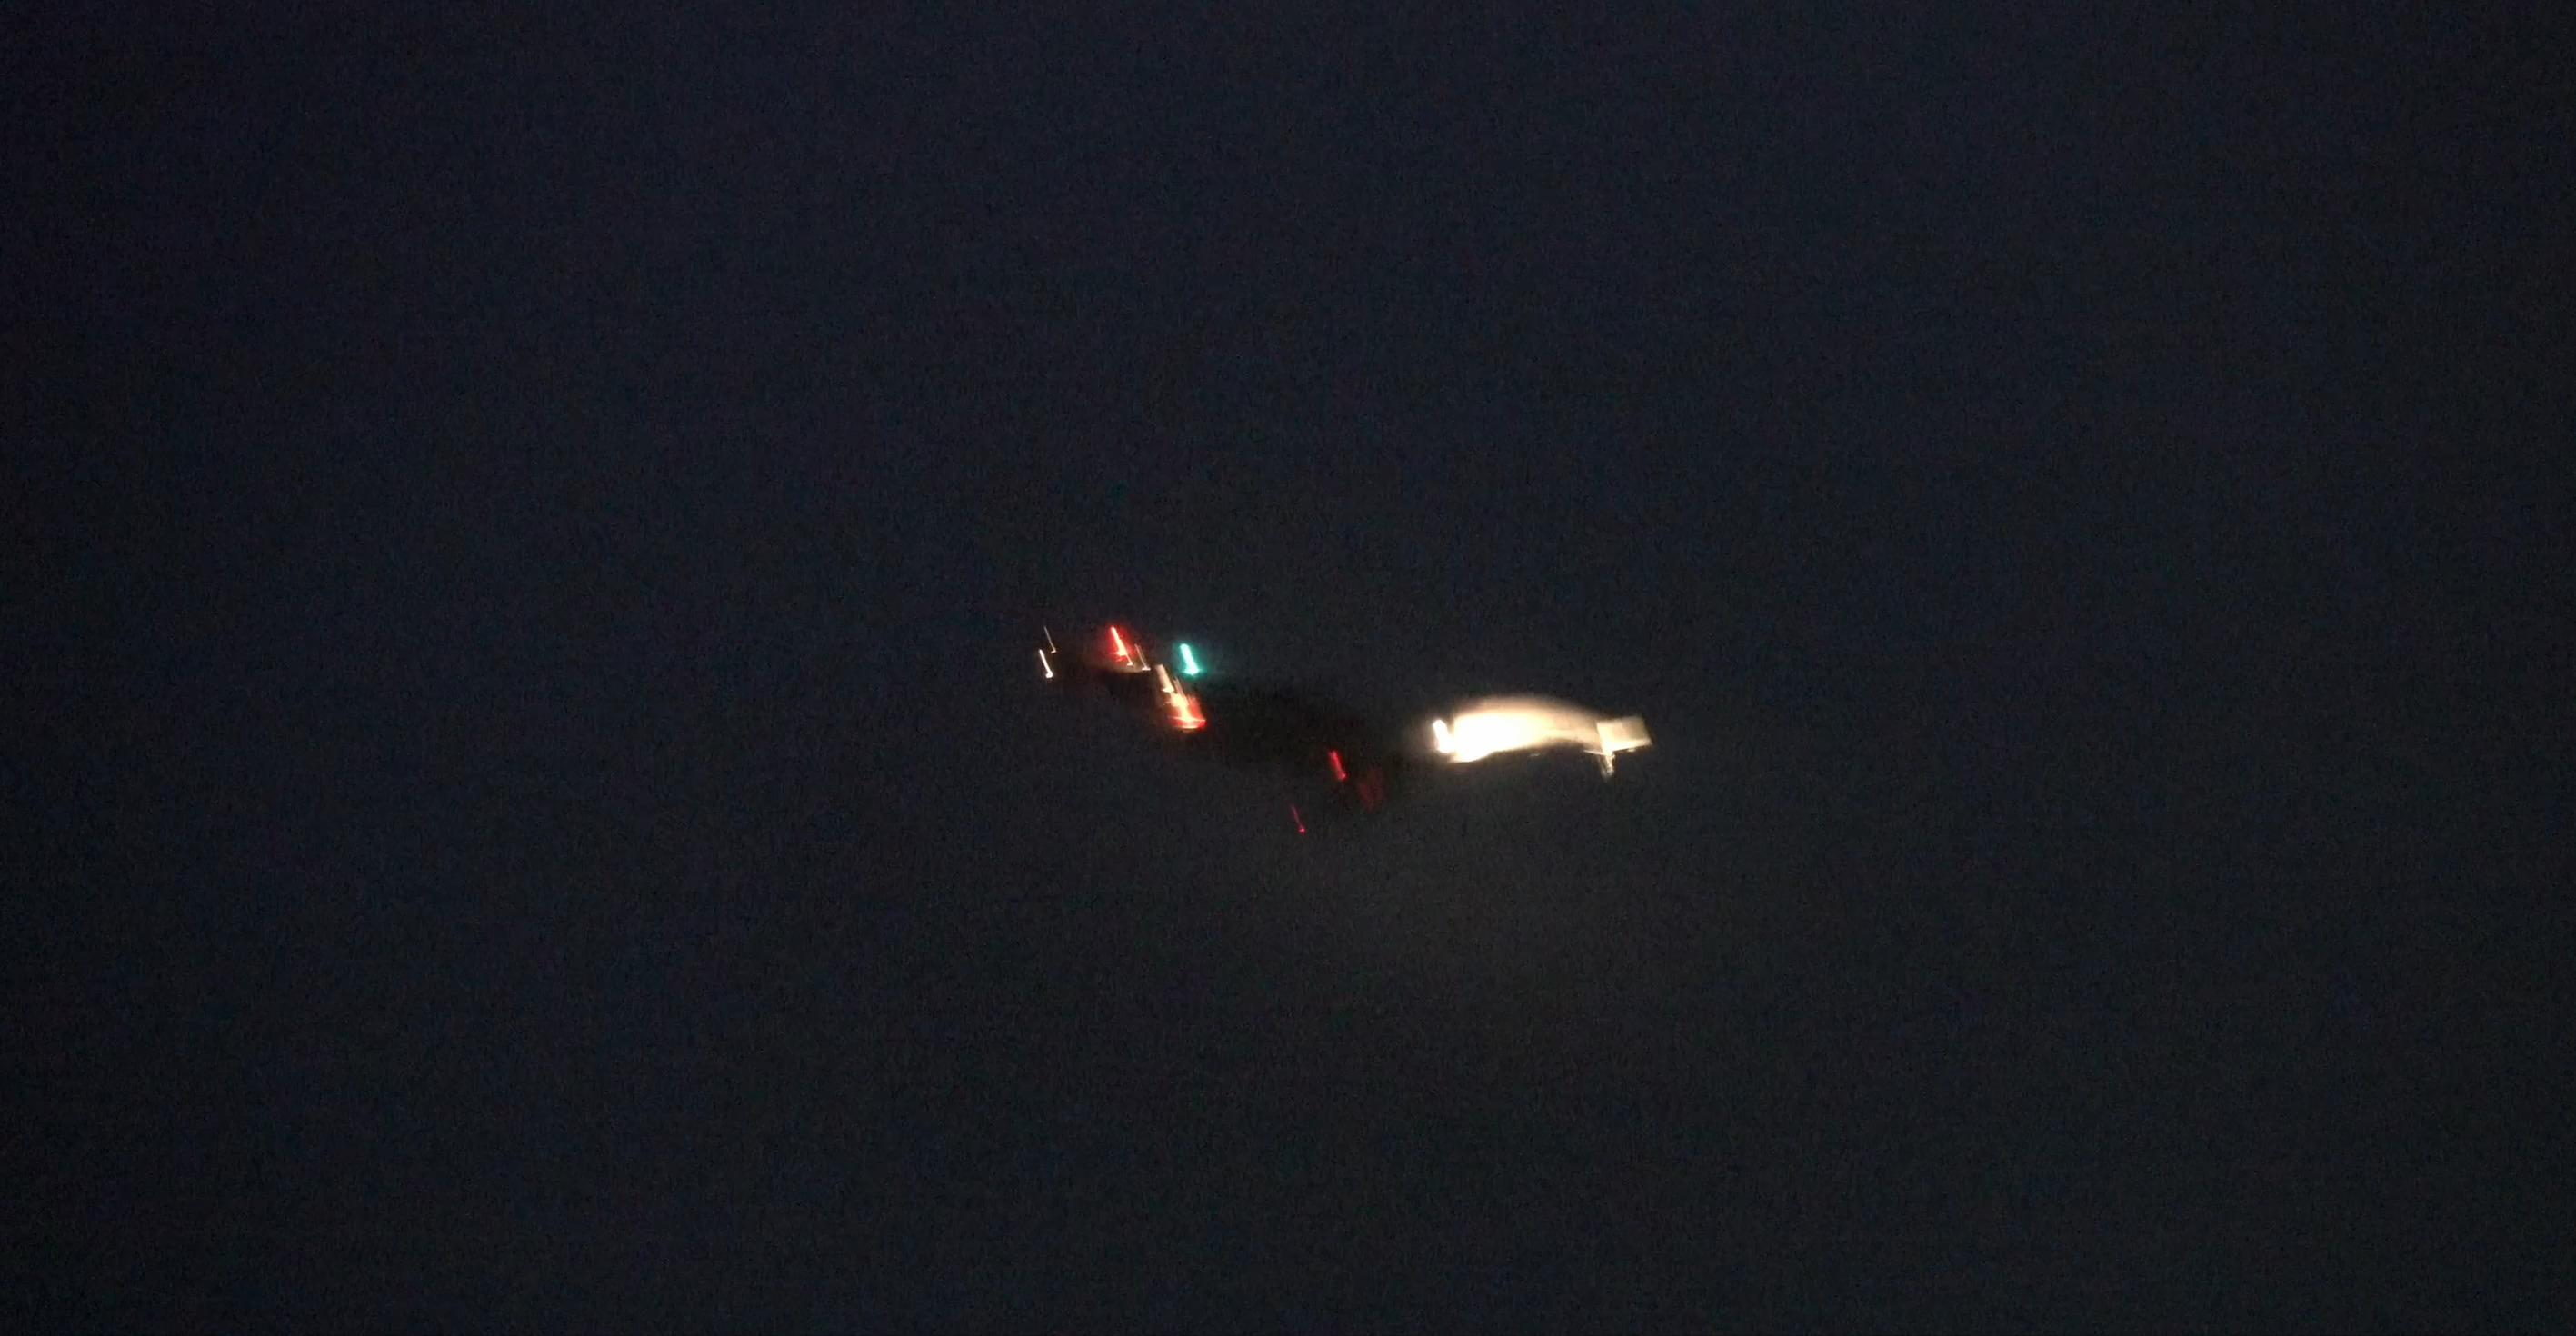Plane: (1048, 636, 1729, 799)
